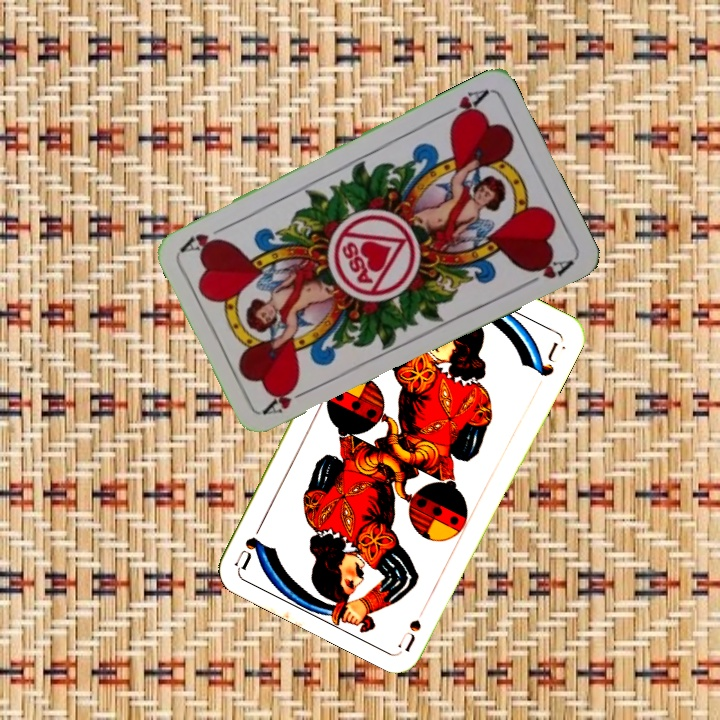HA: (436, 85, 491, 127), (259, 380, 316, 417)
SU: (394, 596, 432, 653)
